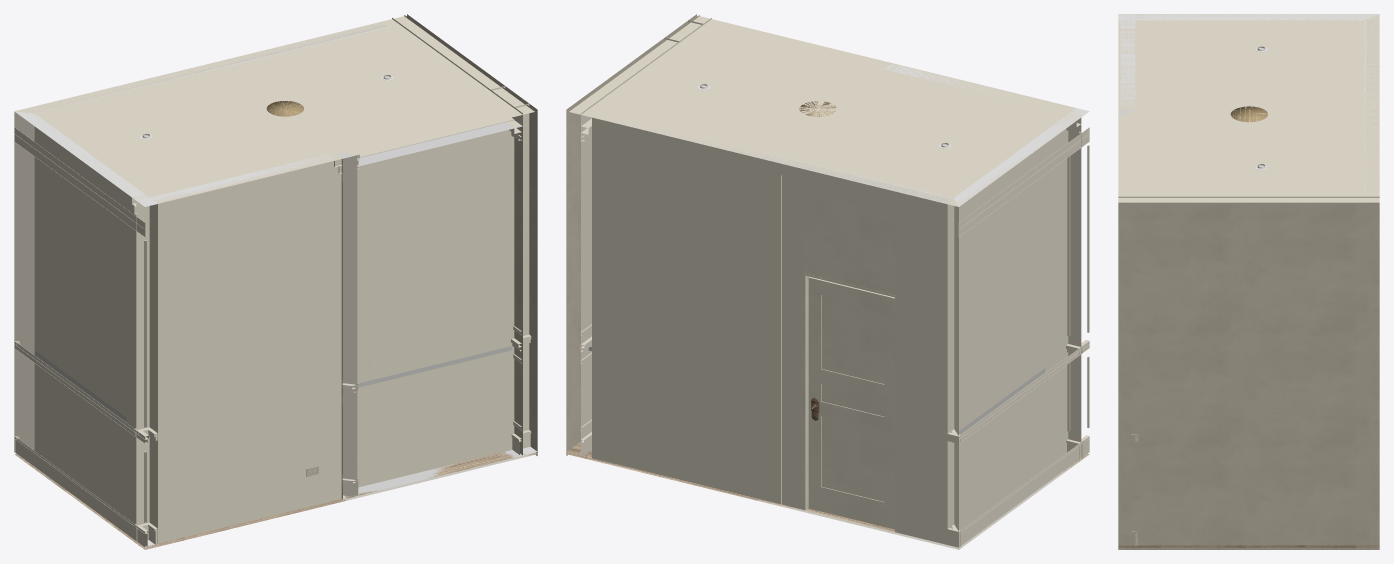
File: pantry-863f6b2195c1.glb
3 views of the same model, side by side, from view 1: azimuth 30°, elevation 25°; view 2: azimuth 150°, elevation 25°; view 3: azimuth 270°, elevation 25° (orthographic).
Parts seen in each view (by area): view 1: pantry-e1ae12ec9cba52a2, pantry-e64cabe238f3e83a, pantry-2575515a05775d9e, pantry-5b6bbac285e58726, pantry-6a1144f4e43410bb, pantry-e462de76b61e99cf, pantry-1b1dac62f3b0f38e, pantry-ab25ce0be192bde7, pantry-2c29ddcb8551cb02, pantry-e54d813e60c9e7c4, pantry-3b0077416469e01b, pantry-4b4a529ae091588b (+10 smaller); view 2: pantry-bd4023b7987ad736, pantry-2575515a05775d9e, pantry-5b6bbac285e58726, pantry-90d279c9f3741083, pantry-af97eba351c411ae, pantry-151470939db8c09f, pantry-2c29ddcb8551cb02, pantry-b9e31e055fa428f9, pantry-e54d813e60c9e7c4, pantry-4b4a529ae091588b, pantry-6a1144f4e43410bb, pantry-3b0077416469e01b (+5 smaller); view 3: pantry-af97eba351c411ae, pantry-2575515a05775d9e, pantry-ab25ce0be192bde7, pantry-e462de76b61e99cf, pantry-4b4a529ae091588b, pantry-5b6bbac285e58726, pantry-e1ae12ec9cba52a2, pantry-ecf72e0057751250, pantry-710b1f455b9f0804, pantry-bd4023b7987ad736, pantry-3b0077416469e01b, pantry-76fec1e12e3db62a (+1 smaller).
Boxes of the visible parts, bbox=[...] form: pantry-e1ae12ec9cba52a2: bbox=[149, 154, 341, 543]; pantry-e64cabe238f3e83a: bbox=[342, 122, 522, 495]; pantry-2575515a05775d9e: bbox=[15, 15, 534, 203]; pantry-5b6bbac285e58726: bbox=[14, 111, 149, 540]; pantry-6a1144f4e43410bb: bbox=[136, 197, 157, 546]; pantry-e462de76b61e99cf: bbox=[514, 104, 537, 455]; pantry-1b1dac62f3b0f38e: bbox=[135, 434, 512, 524]; pantry-ab25ce0be192bde7: bbox=[490, 86, 529, 431]; pantry-2c29ddcb8551cb02: bbox=[14, 437, 145, 547]; pantry-e54d813e60c9e7c4: bbox=[14, 127, 145, 236]; pantry-3b0077416469e01b: bbox=[14, 451, 537, 549]; pantry-4b4a529ae091588b: bbox=[35, 27, 391, 116]; pantry-bd4023b7987ad736: bbox=[592, 117, 954, 544]; pantry-2575515a05775d9e: bbox=[569, 15, 1087, 206]; pantry-5b6bbac285e58726: bbox=[953, 114, 1081, 547]; pantry-90d279c9f3741083: bbox=[808, 277, 894, 529]; pantry-af97eba351c411ae: bbox=[566, 37, 679, 455]; pantry-151470939db8c09f: bbox=[803, 191, 896, 295]; pantry-2c29ddcb8551cb02: bbox=[959, 437, 1089, 547]; pantry-b9e31e055fa428f9: bbox=[803, 273, 896, 532]; pantry-e54d813e60c9e7c4: bbox=[958, 127, 1089, 236]; pantry-4b4a529ae091588b: bbox=[601, 110, 957, 198]; pantry-6a1144f4e43410bb: bbox=[1068, 108, 1089, 440]; pantry-3b0077416469e01b: bbox=[566, 441, 1089, 549]; pantry-af97eba351c411ae: bbox=[1183, 196, 1379, 545]; pantry-2575515a05775d9e: bbox=[1118, 14, 1379, 203]; pantry-ab25ce0be192bde7: bbox=[1135, 196, 1182, 545]; pantry-e462de76b61e99cf: bbox=[1118, 196, 1135, 545]; pantry-4b4a529ae091588b: bbox=[1355, 20, 1364, 192]; pantry-5b6bbac285e58726: bbox=[1135, 14, 1378, 20]; pantry-e1ae12ec9cba52a2: bbox=[1120, 20, 1135, 106]; pantry-ecf72e0057751250: bbox=[1368, 19, 1376, 192]; pantry-710b1f455b9f0804: bbox=[1135, 14, 1144, 109]; pantry-bd4023b7987ad736: bbox=[1364, 19, 1379, 191]; pantry-3b0077416469e01b: bbox=[1118, 545, 1379, 547]; pantry-76fec1e12e3db62a: bbox=[1118, 547, 1379, 549].
Bounding box in the file's own units: 3.62 × 3.05 × 2.09.
24 materials, 4 textured.
